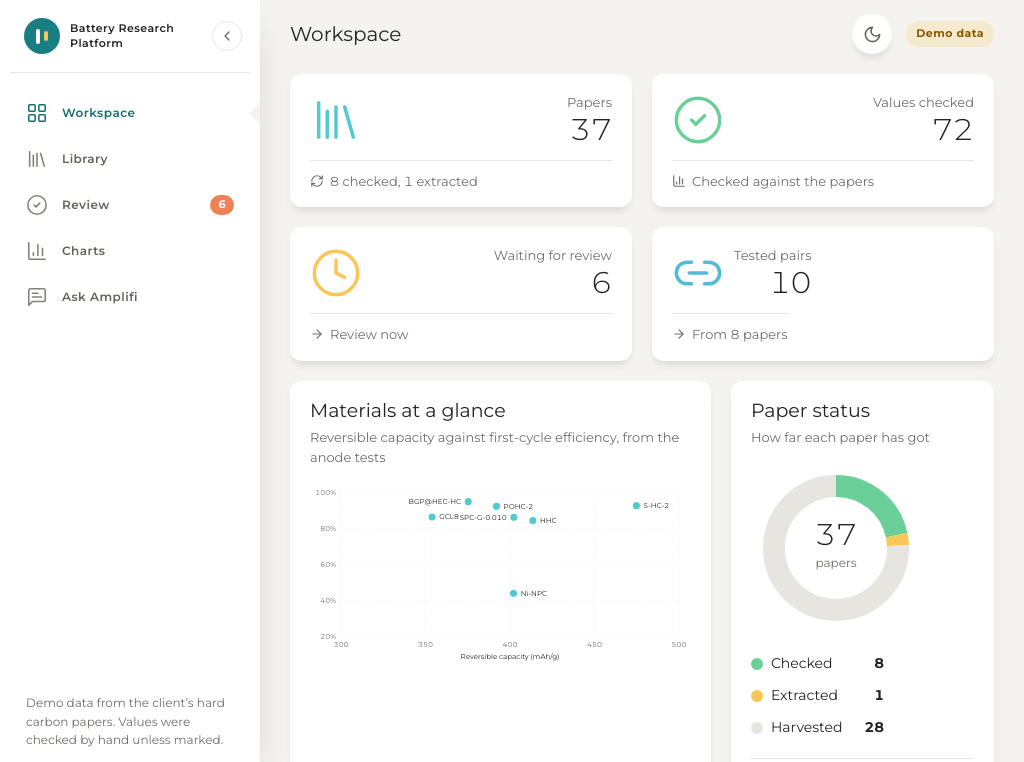
Test case: Workspace › shows the stats and links metrics to the relevant records
expect the text "Tested pairs" is shown: met, box [734,245,812,265]
Step 1. Click the link "Waiting for review 6 Review now" → [336, 273], box [290,227,632,361]
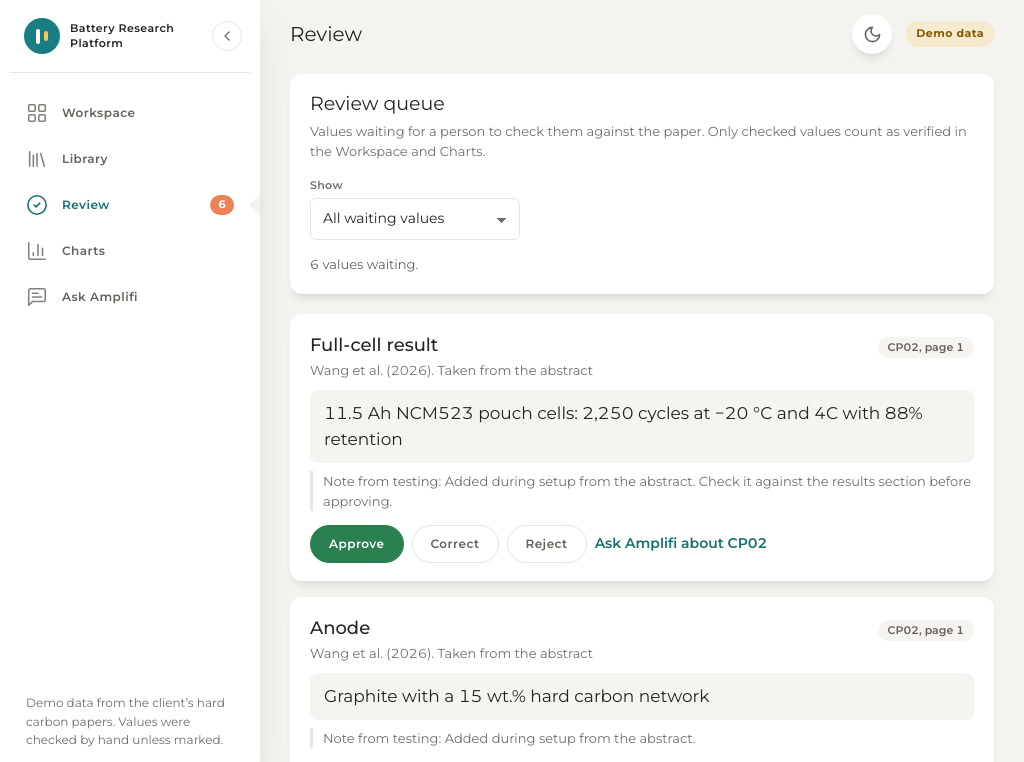
expect the heading "Review queue" is shown: met, box [310,92,445,115]
